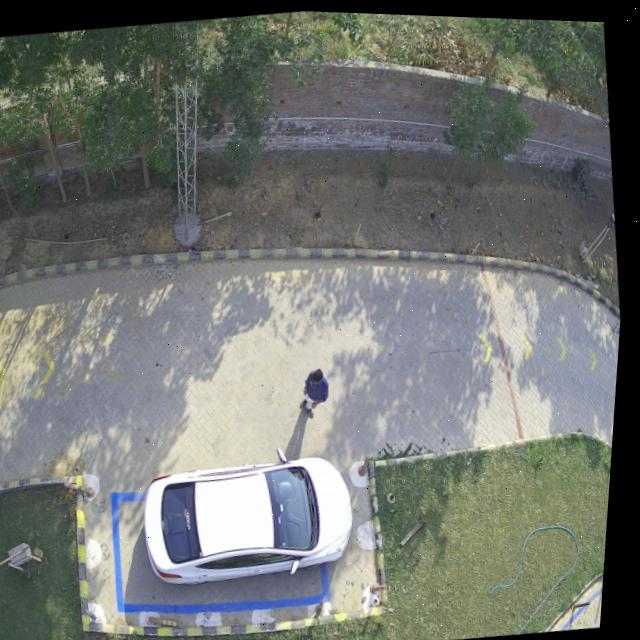car: (150, 454, 359, 581)
